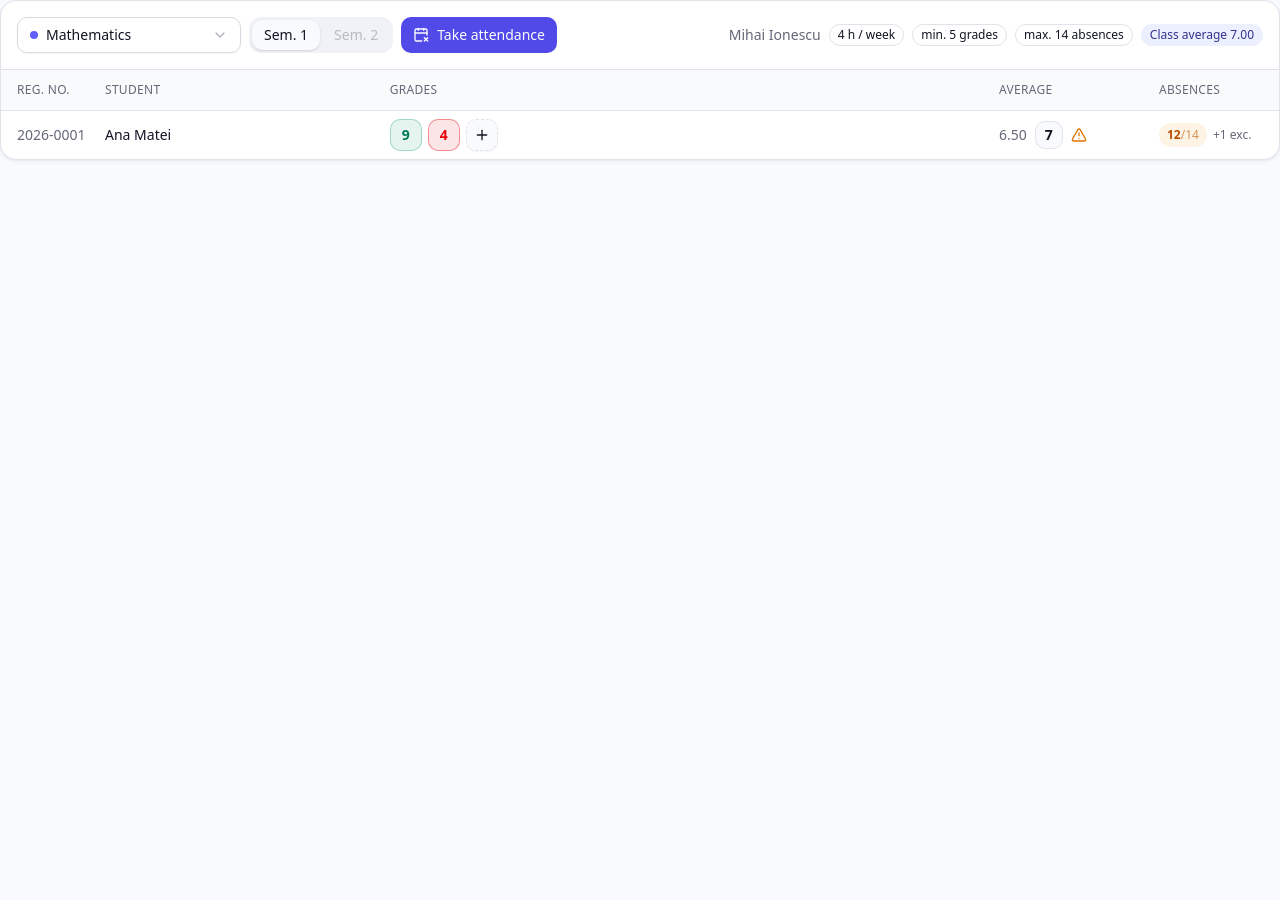
Gradebook › shows the absences against the limit, and takes attendance
expect the text "max. 14 absences" is shown: met, box x1=1015 y1=24 x2=1133 y2=46
Click the button "Take attendance" at (479, 35), box x1=401 y1=17 x2=557 y2=53
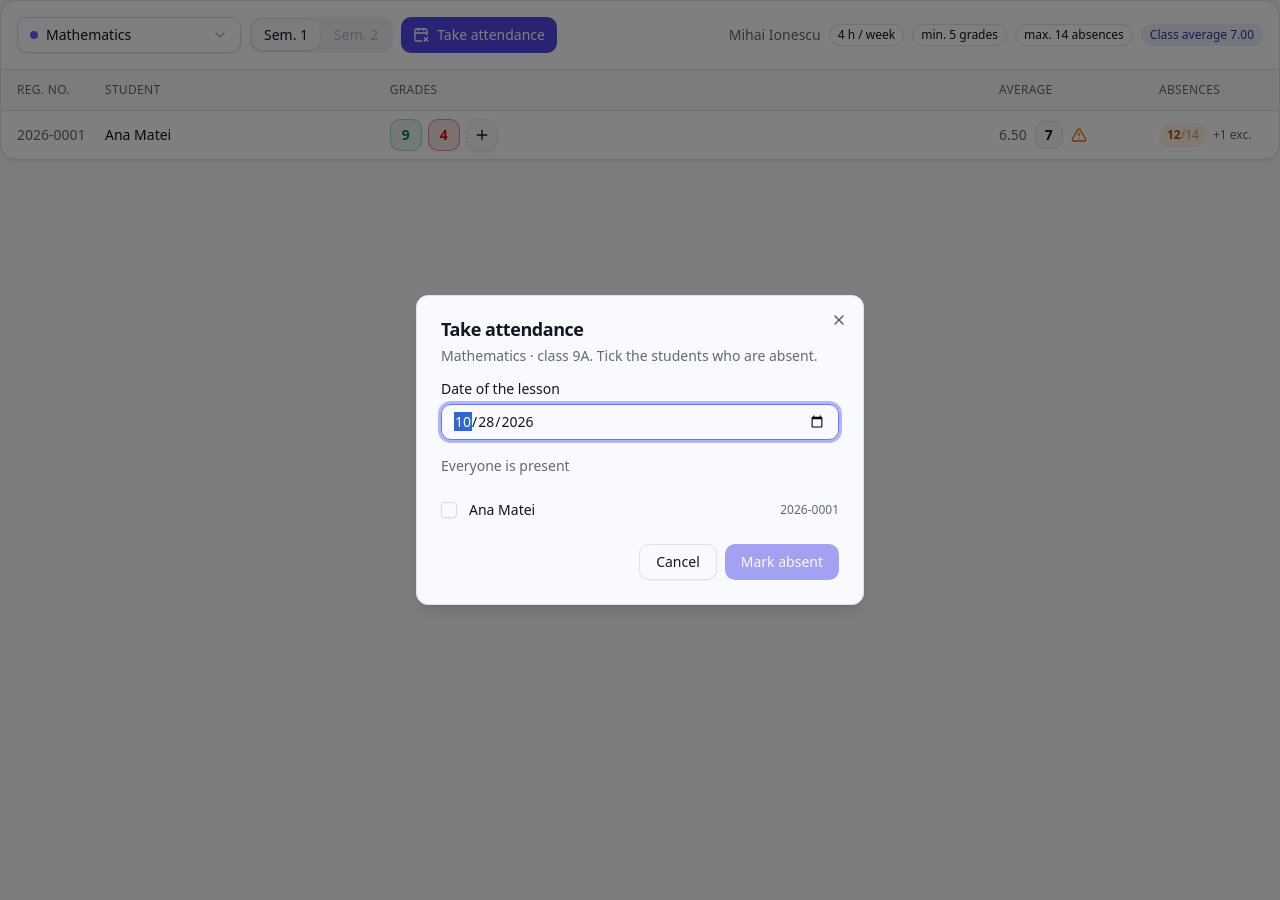
Click the checkbox at (449, 510), box x1=441 y1=502 x2=457 y2=518
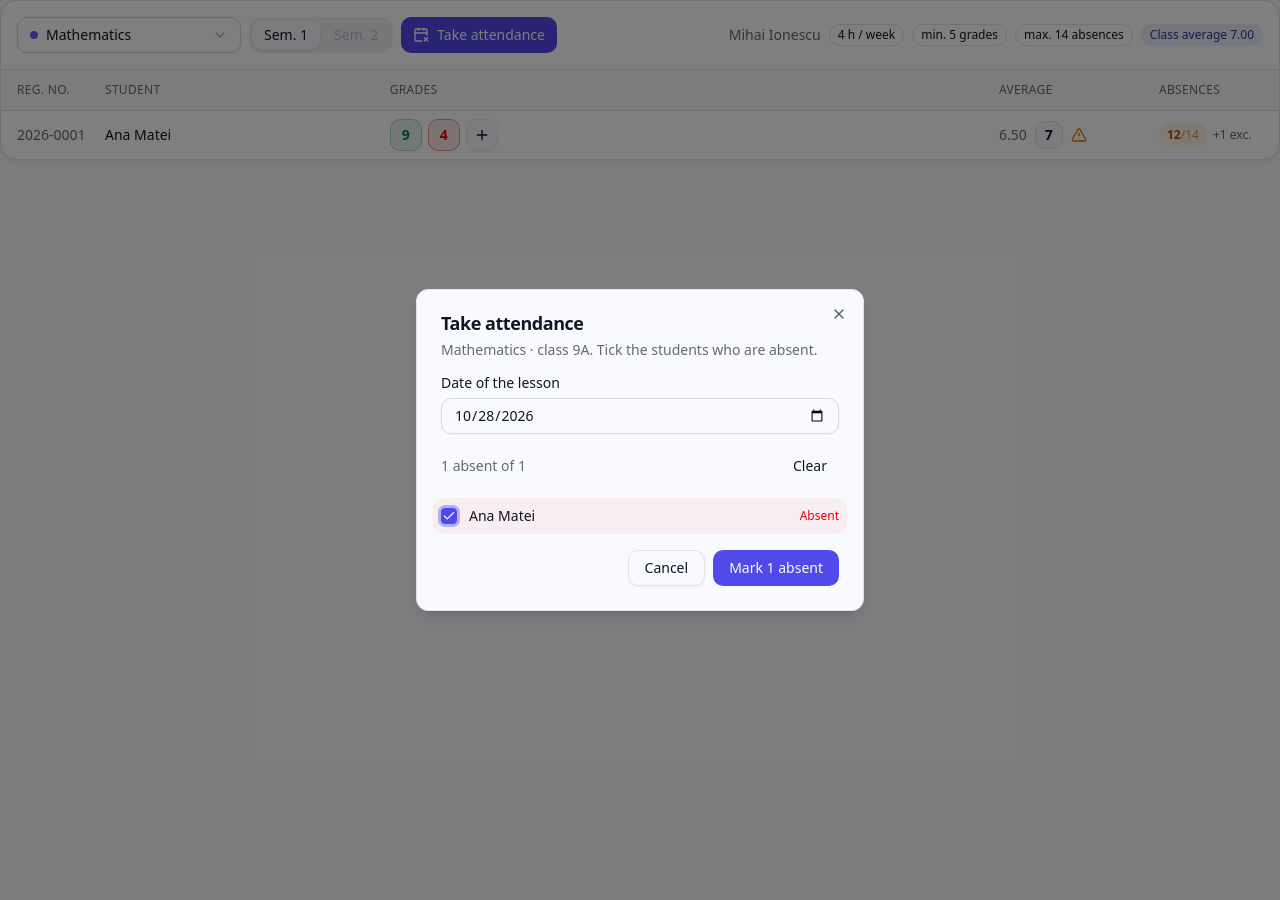
expect the button "Mark 1 absent" is enabled: met, box x1=713 y1=550 x2=839 y2=586
